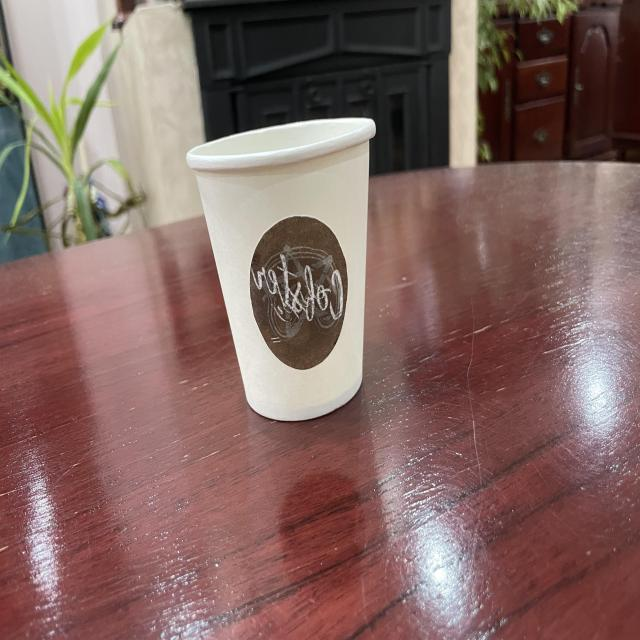medium: (182, 104, 378, 432)
